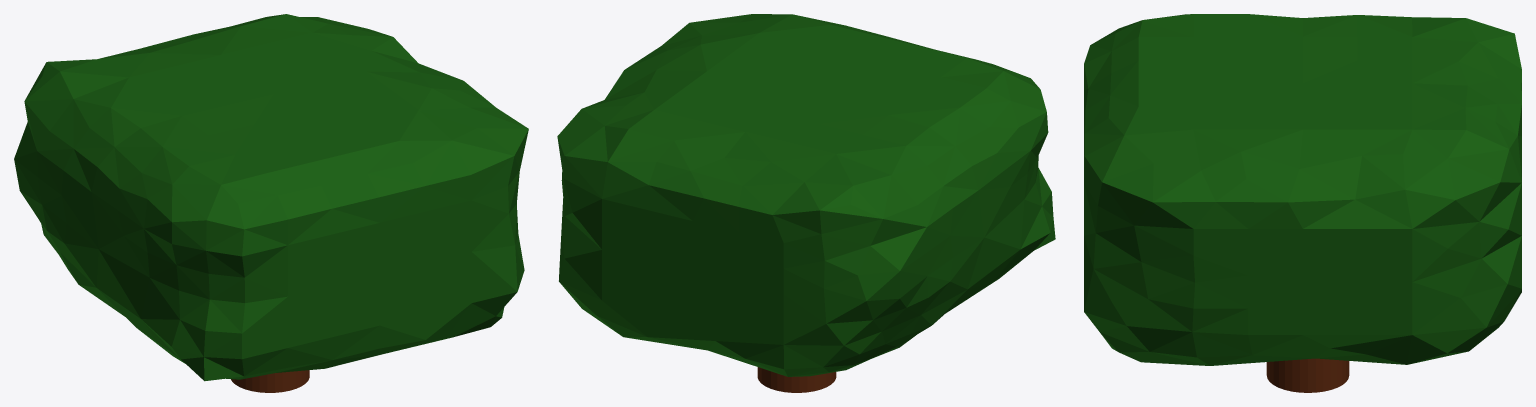
File: Bushes Large.fbx
3 renders of one model, left to right at view 1: azimuth 30°, elevation 25°; view 2: azimuth 150°, elevation 25°; view 3: azimuth 270°, elevation 25°, orthographic. The views are drawn at different scales.
Parts seen in each view (by area): view 1: Cylinder.038; view 2: Cylinder.038; view 3: Cylinder.038.
Boxes of the visible parts, x1,y1,x2,y2 form: Cylinder.038: (14,14,528,392); Cylinder.038: (557,14,1055,392); Cylinder.038: (1084,14,1521,392).
Bounding box in the file's own units: 776 × 573 × 776.
